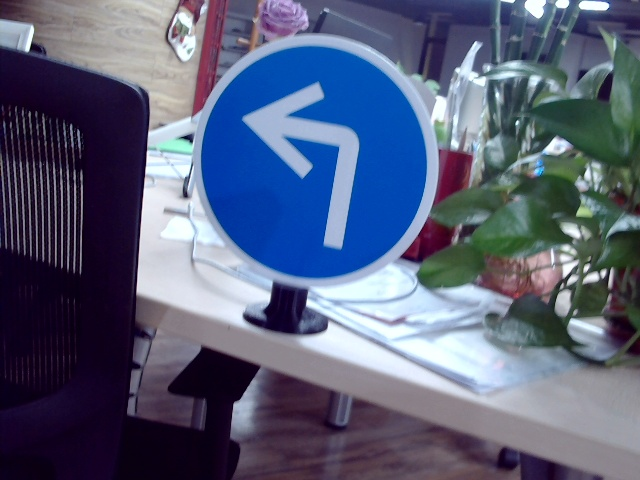turn_left: (242, 70, 368, 249)
